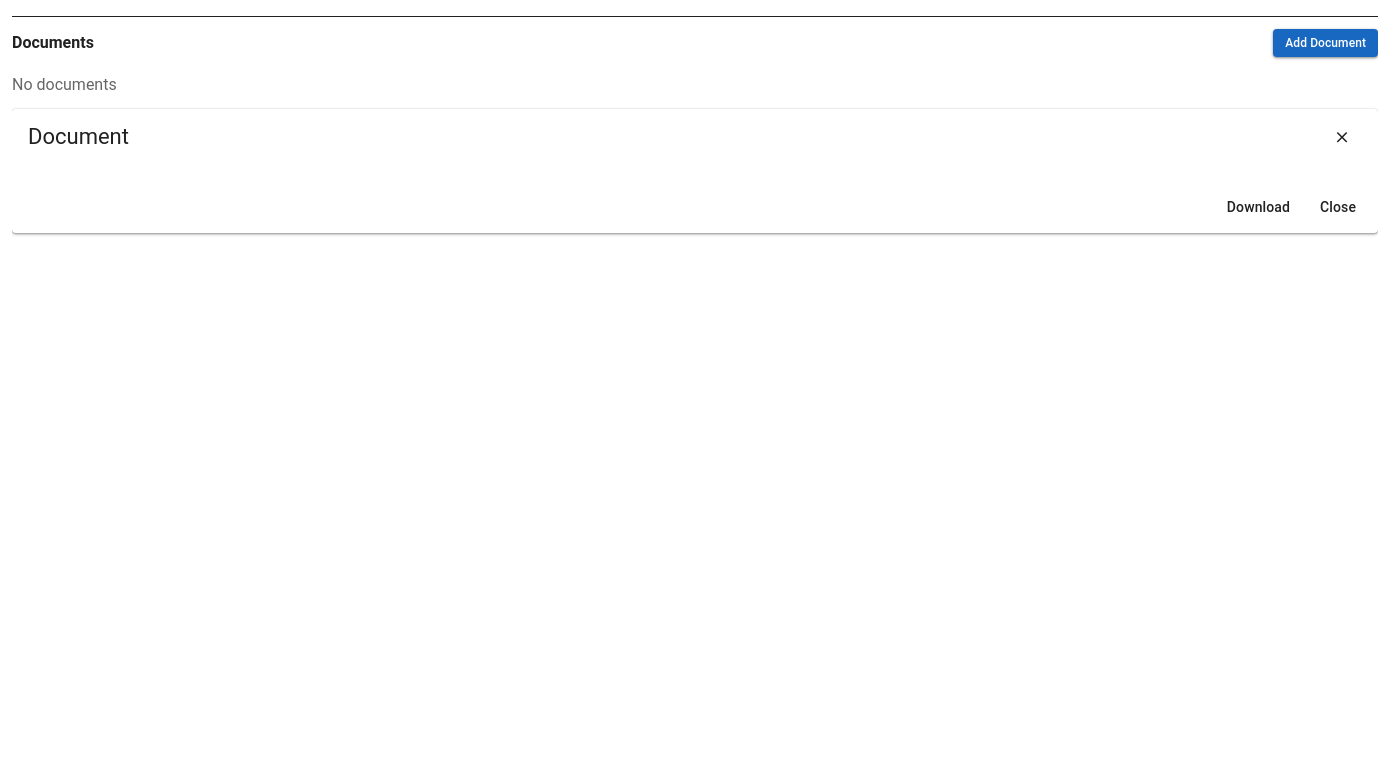
Scenario: Feature 35 — Person Document Add Dialog › Add Document opens a dialog with Save and Cancel
Click the button "Add Document".
click(1326, 43)  # box [1273, 29, 1378, 57]
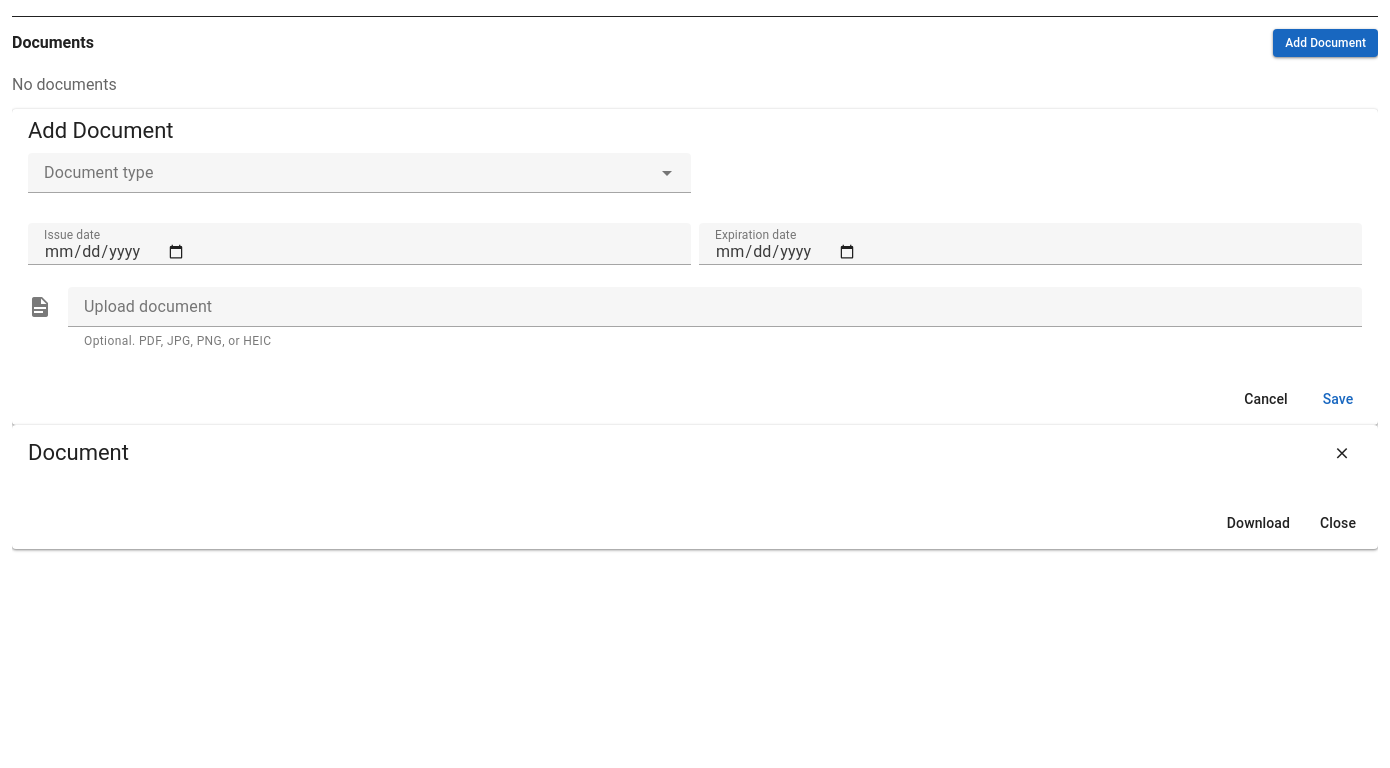
Check: the 2nd text "Add Document" is shown, box [28, 118, 174, 143]
Check: the text "Save" is shown, box [1323, 391, 1353, 407]
Check: the text "Cancel" is shown, box [1244, 391, 1288, 407]
